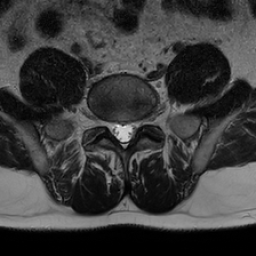CCS_normal: (117, 113, 126, 154)
LFS_normal: (134, 108, 144, 136)
LLS_normal: (126, 113, 134, 142)
RFS_normal: (101, 109, 110, 134)
RLS_normal: (110, 112, 117, 145)
